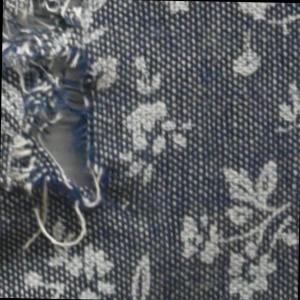Damage: (1, 1, 123, 264)
